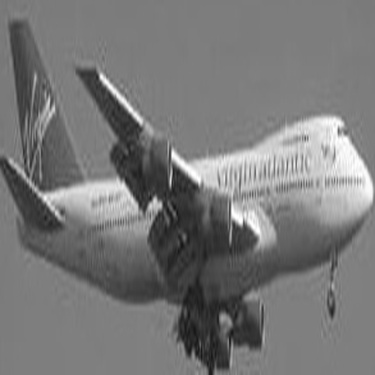airplane: (8, 8, 370, 372)
